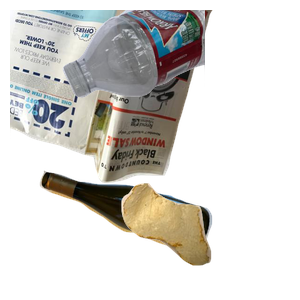glass: (37, 168, 242, 300)
paper: (10, 10, 215, 186)
plastic: (60, 10, 300, 100)
trash: (119, 181, 300, 300)
